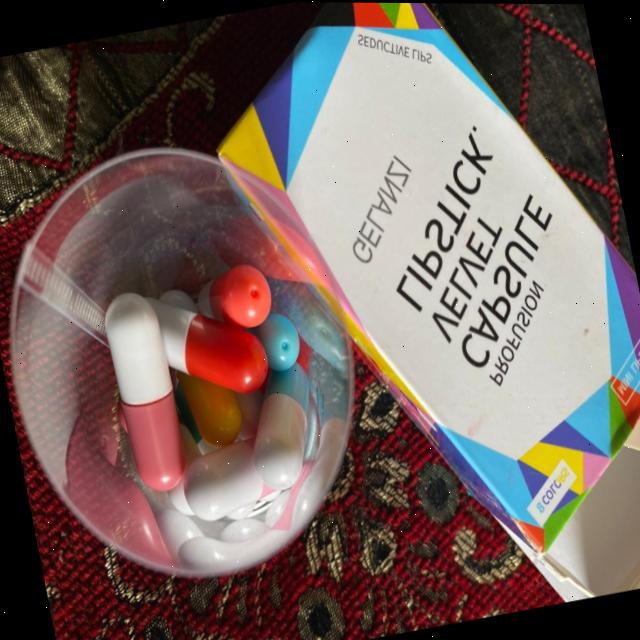lip stick: (307, 2, 640, 625), (0, 127, 398, 614)
